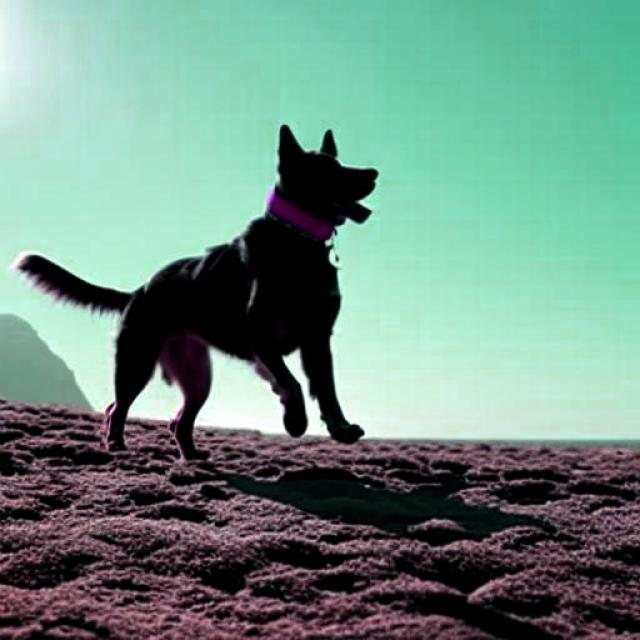Dog: (13, 123, 378, 462)
